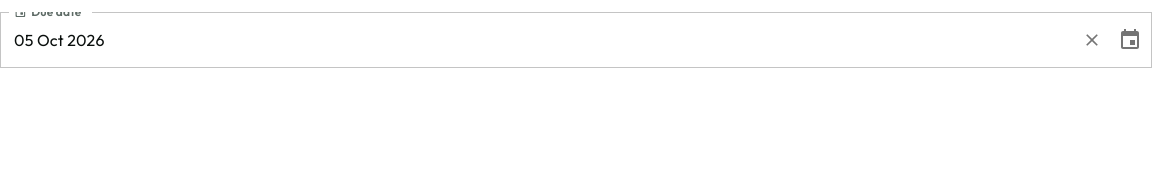
Test: DateField › still clears after part of the date was deleted
The width and height of the screenshot is (1164, 172).
Press the mouse on the number field named "Day": (24, 40) [14, 30, 34, 50]
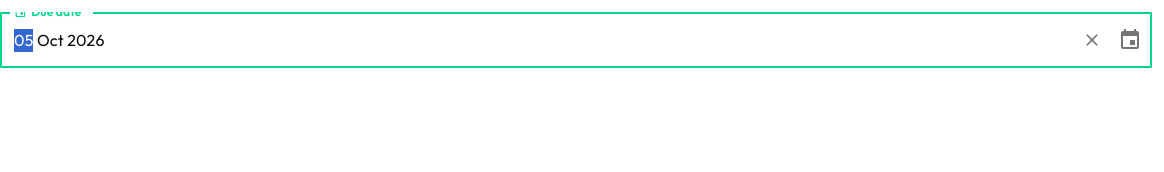
Press Delete in the number field named "Day", box [14, 30, 34, 50]
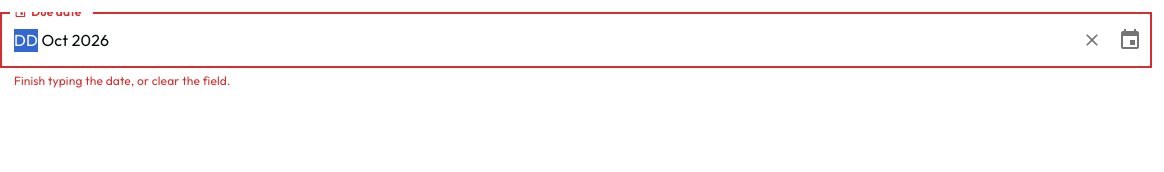
Click the button named "Clear": (1092, 40) [1074, 22, 1110, 58]
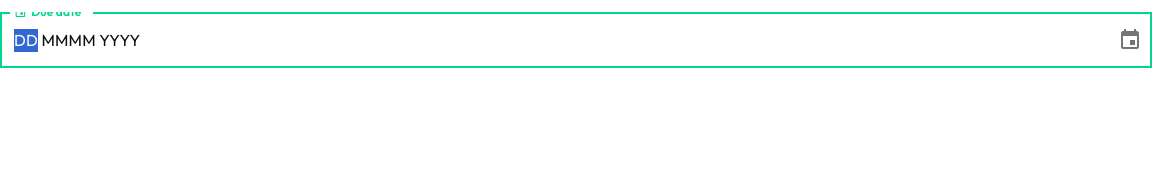
Check: the number field named "Year" reads "YYYY", box [99, 30, 140, 50]
